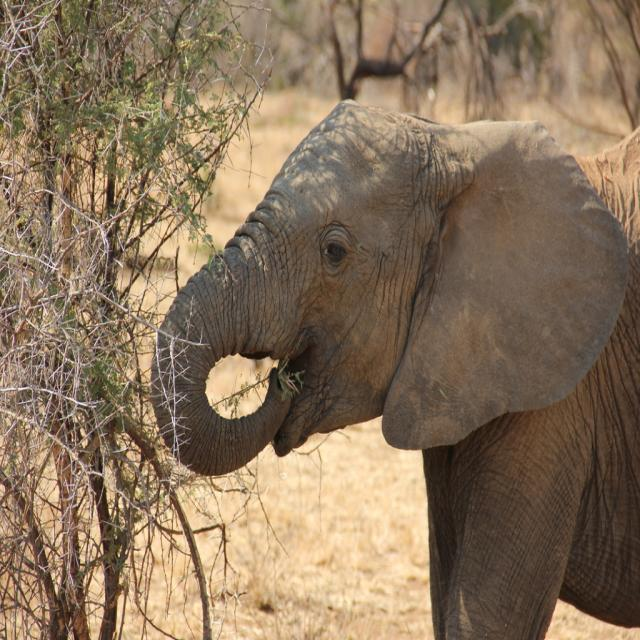elephant: (148, 84, 640, 601)
